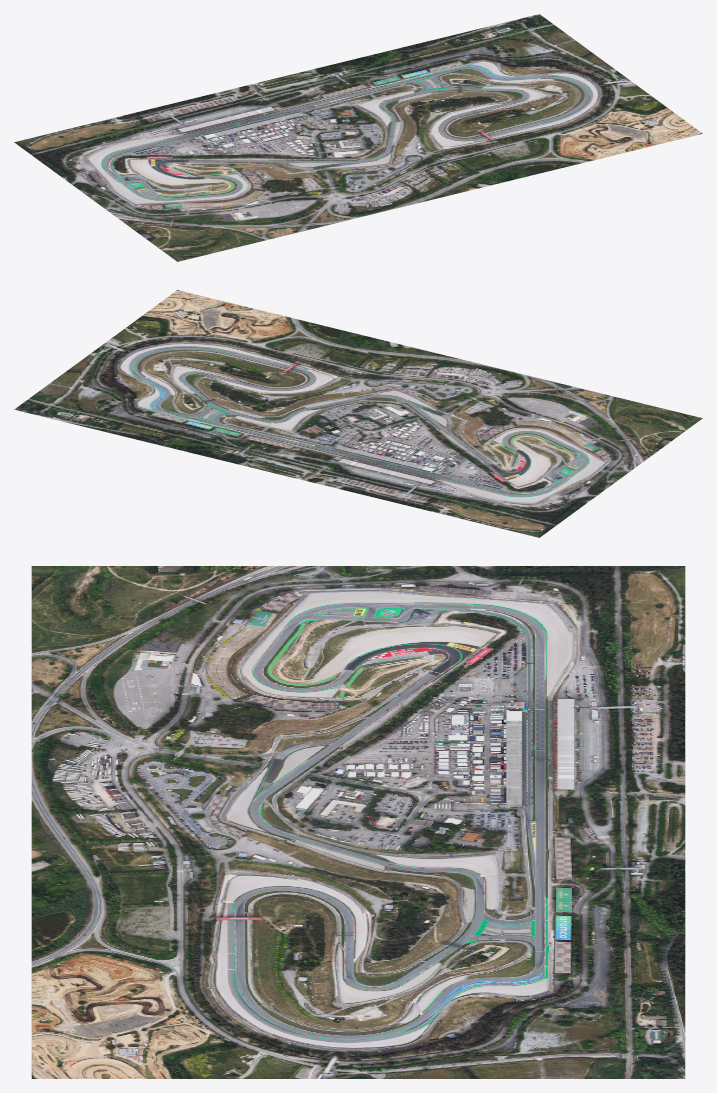
The model's file is terrain.fbx.
3 renders of one model, top to bottom at view 1: azimuth 30°, elevation 25°; view 2: azimuth 150°, elevation 25°; view 3: azimuth 270°, elevation 25°, orthographic. The views are drawn at different scales.
Parts seen in each view (by area): view 1: barcelona; view 2: barcelona; view 3: barcelona.
Boxes of the visible parts, bbox=[...] form: barcelona: bbox=[14, 14, 702, 261]; barcelona: bbox=[14, 290, 702, 537]; barcelona: bbox=[31, 566, 685, 1078].
Size of the model in its own units: 1584 by 5.24e-14 by 853.
